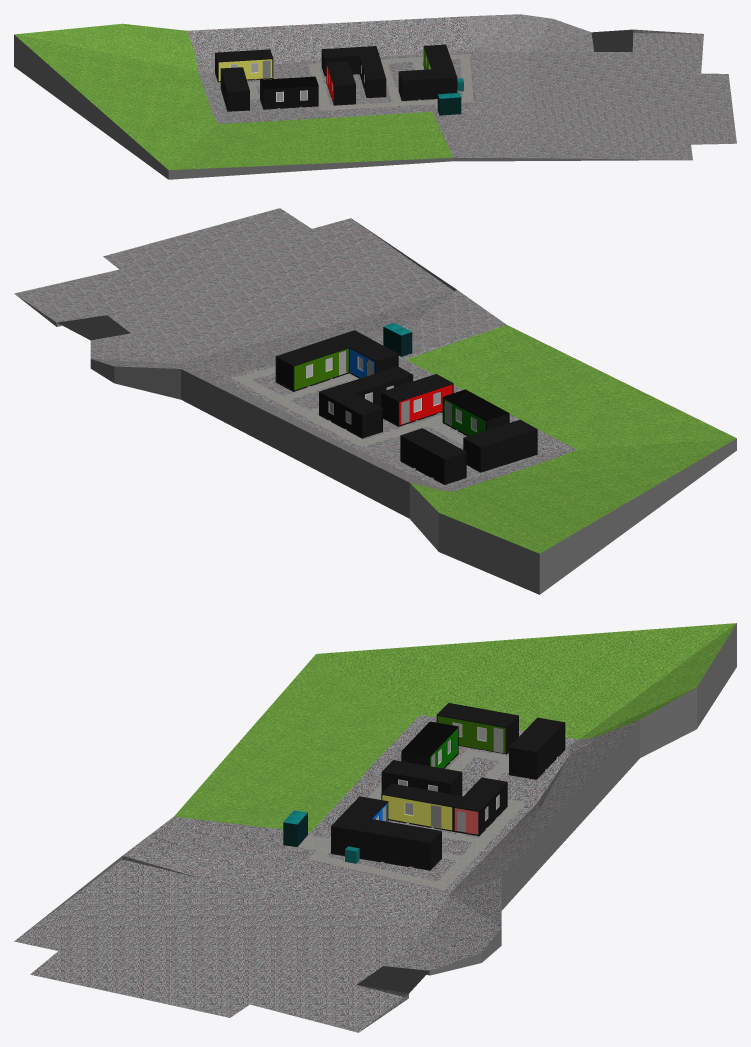
The model's file is 3e506ccc-328d-4216-989f-907e0d960795.gltf.
The picture shows the model from 3 angles, top to bottom: view 1: azimuth 30°, elevation 25°; view 2: azimuth 150°, elevation 25°; view 3: azimuth 270°, elevation 25°; orthographic projection. The views are drawn at different scales.
Visible parts, largest first — view 1: root; view 2: root; view 3: root.
Boxes of the visible parts, x1,y1,x2,y2 form: root: [14, 14, 736, 179]; root: [14, 208, 736, 594]; root: [14, 623, 736, 1032].
Bounding box in the file's own units: 20.12 × 1.12 × 16.8.
Materials: 25 (3 with a texture image).
